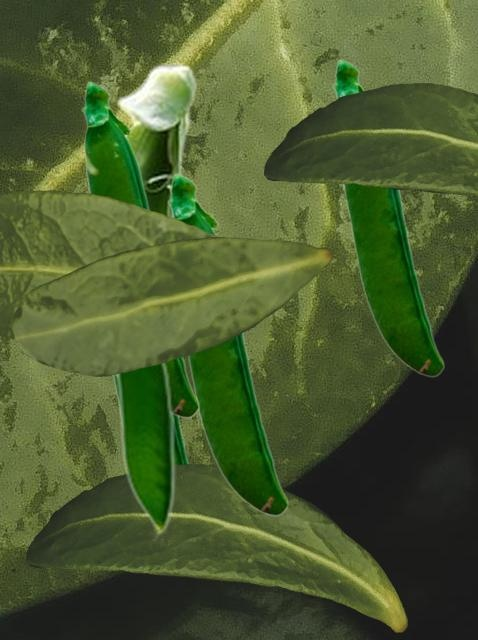pea: (167, 172, 287, 515), (81, 80, 198, 417), (332, 58, 443, 376), (110, 63, 197, 380), (112, 362, 175, 539), (113, 377, 189, 463)
